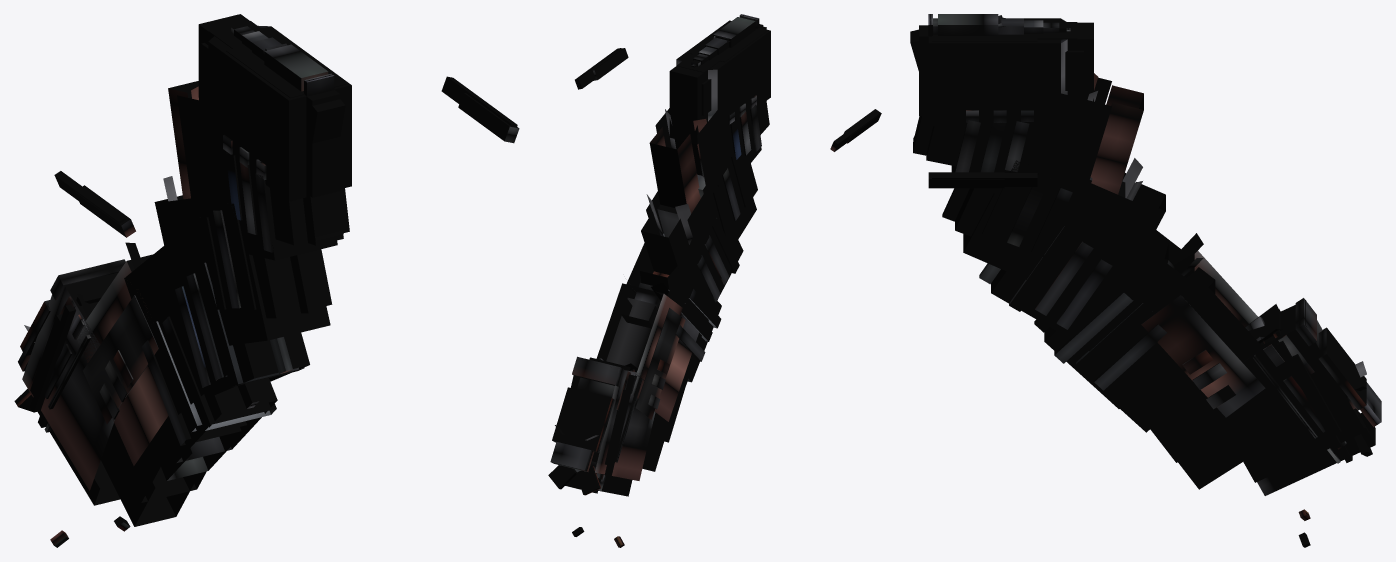
File: ak47_mag_additive.glb
3 views of the same model, side by side, from view 1: azimuth 30°, elevation 25°; view 2: azimuth 150°, elevation 25°; view 3: azimuth 270°, elevation 25° (orthographic). The views are drawn at different scales.
Parts seen in each view (by area): view 1: mag; view 2: mag; view 3: mag.
Part boxes in pixels (box(x1,y1,x2,y2)): mag: box(14, 14, 519, 547); mag: box(548, 14, 881, 547); mag: box(910, 14, 1381, 547).
Bounding box in the file's own units: 0.1644 × 0.2479 × 0.2054.
1 material, 1 textured.
